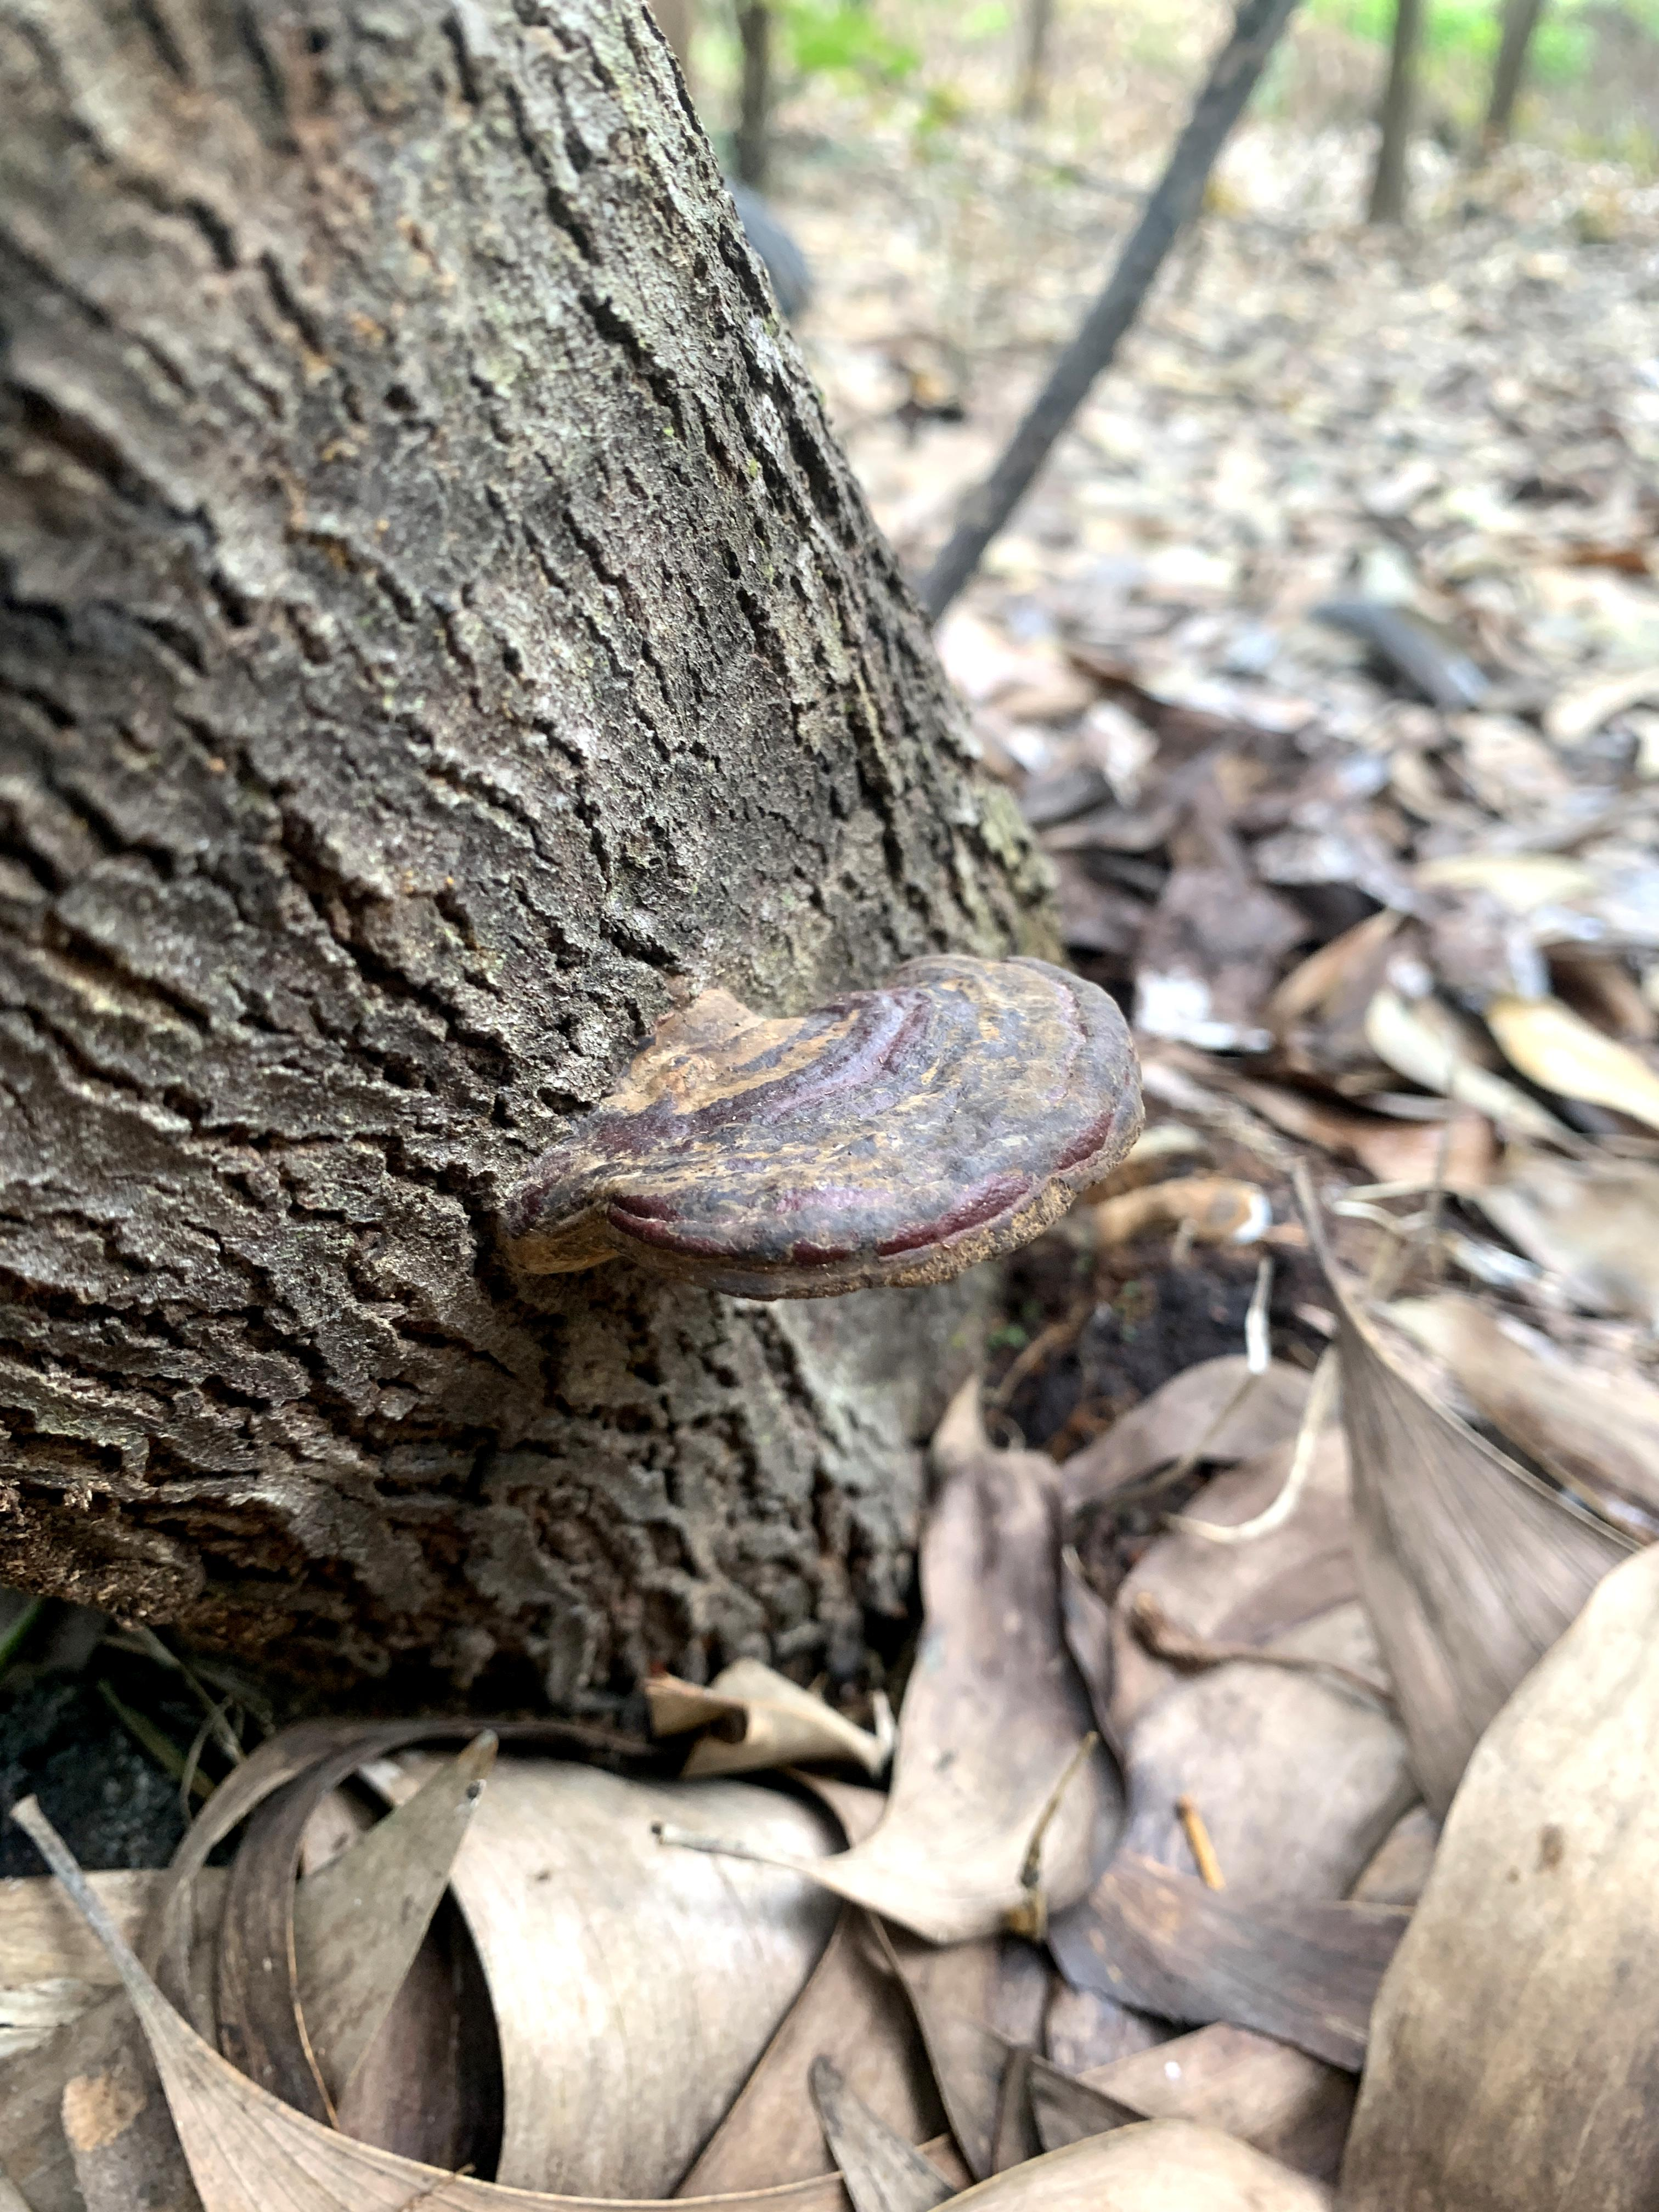Ganoderma - Fruit Body: (544, 951, 1122, 1287)
